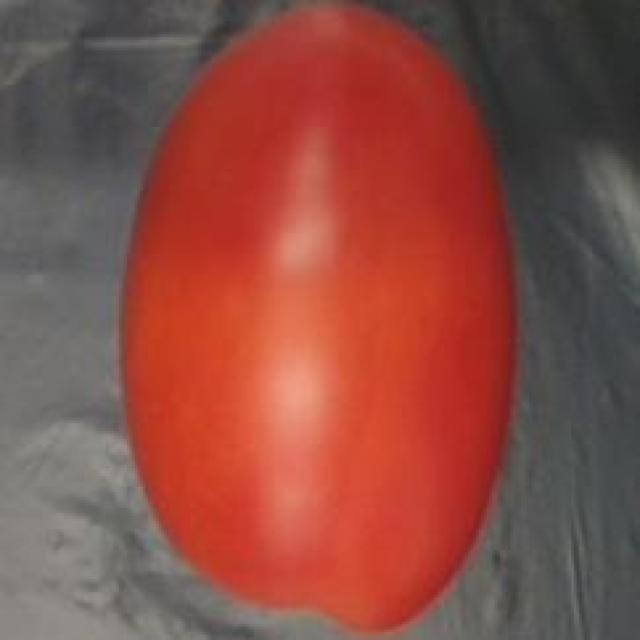ripe tomato: (106, 2, 529, 640)
